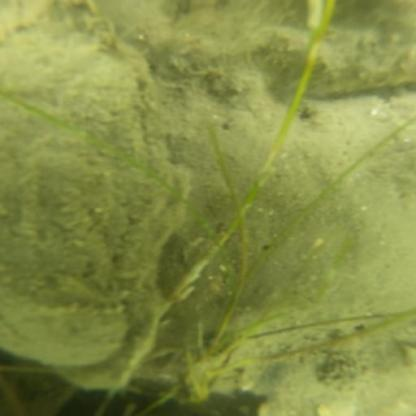Oyster- Indeterminate: (0, 3, 191, 394)
Oyster-Closed: (1, 297, 138, 364)
